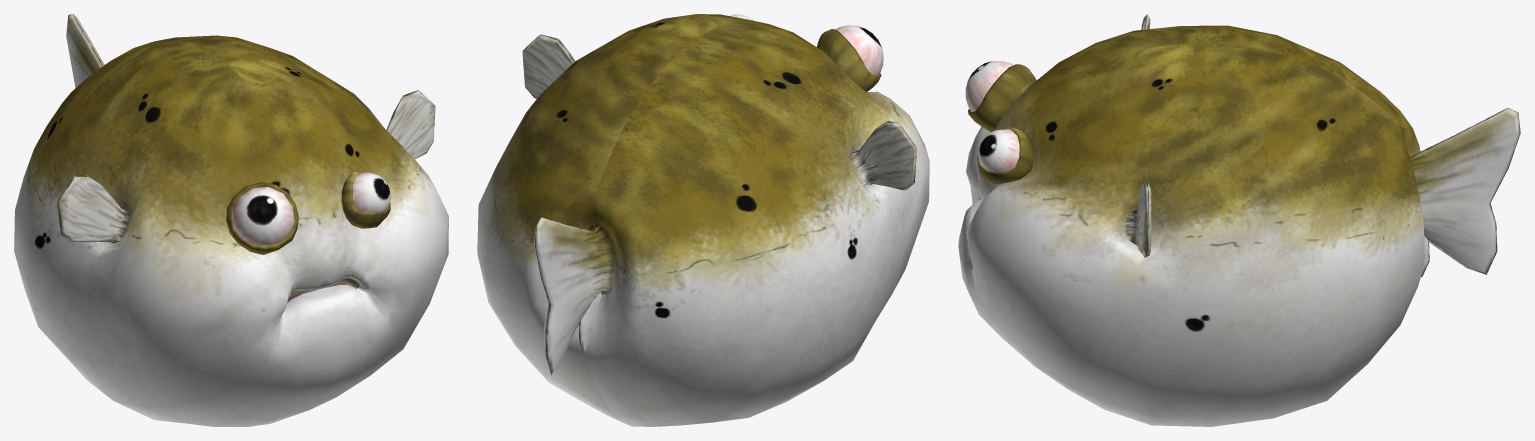
Rendered from maya2sketchfab.fbx.
The picture shows the model from 3 angles, left to right: view 1: azimuth 30°, elevation 25°; view 2: azimuth 150°, elevation 25°; view 3: azimuth 270°, elevation 25°; orthographic projection. The views are drawn at different scales.
Visible parts, largest first — view 1: body, eyeball (×2), lips (×2); view 2: body, lips, eyeball, pufferFish_main; view 3: body, lips (×2), eyeball (×2).
Boxes of the visible parts, <box> form: body: <box>14,14,448,426</box>; eyeball (×2): <box>232,172,391,244</box>; lips (×2): <box>226,171,390,254</box>; body: <box>477,14,929,426</box>; lips: <box>817,29,881,91</box>; eyeball: <box>835,25,883,75</box>; pufferFish_main: <box>578,293,601,353</box>; body: <box>958,14,1520,426</box>; lips (×2): <box>968,64,1036,184</box>; eyeball (×2): <box>965,61,1019,172</box>.
Bounding box in the file's own units: 99.33 × 86.55 × 122.
1 material, 1 textured.
